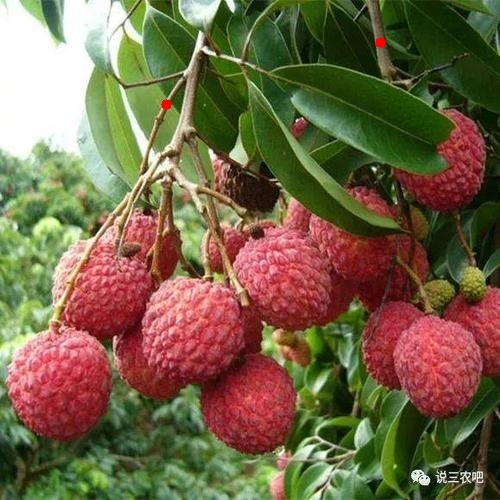litchi: (22, 205, 309, 458), (298, 120, 500, 408)
stem: (153, 35, 207, 184), (367, 1, 409, 87)
